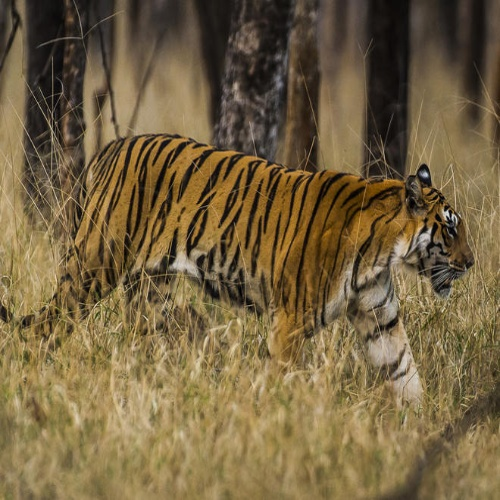tiger: (47, 89, 499, 397)
